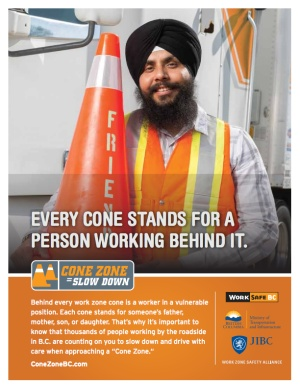person with partial safety: (91, 24, 277, 265)
safety vest: (117, 113, 243, 259)
